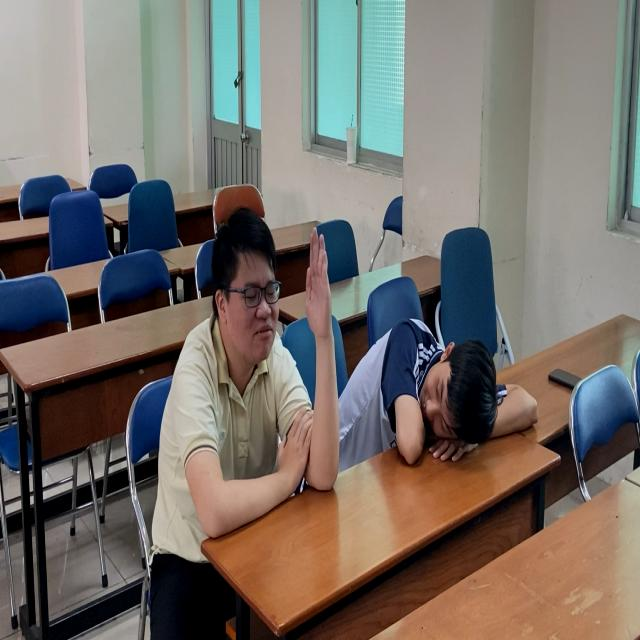raise_hand: (151, 217, 344, 538)
sleep: (345, 314, 540, 467)
